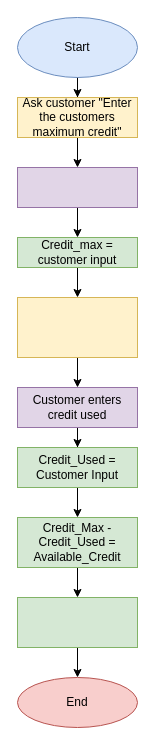
Image size: 155x745. Some labels were removed from this diagram. The shapes that lost their labels are listed below. From the top down, each one's centre as x and y in pixels, then its label:
[77,187]: Customer enters maximum credit
[77,327]: Ask customer "Enter the amount of credit used by the customer"
[77,622]: Display Available_Credit
